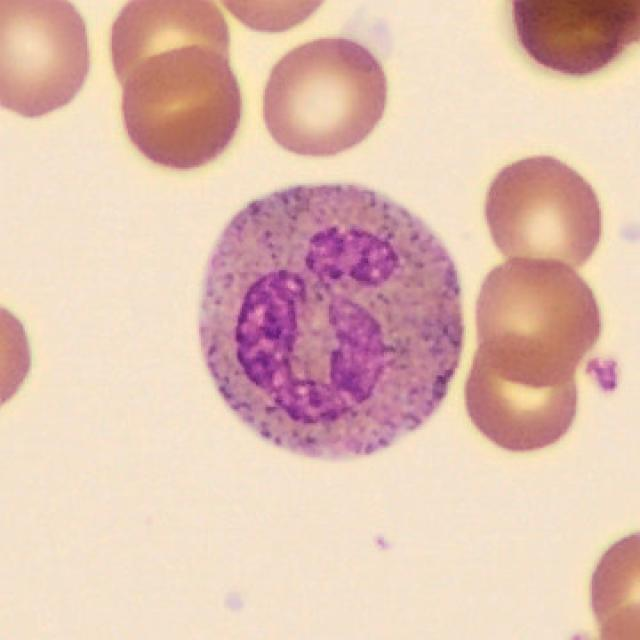Neutrofilo segmentado: (197, 185, 460, 462)
